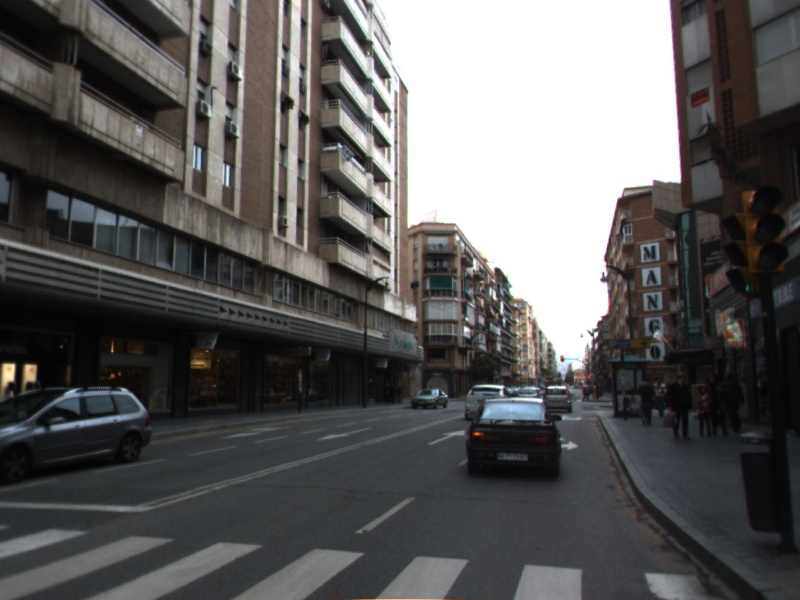STRAIGHT: (425, 428, 466, 447)
STRAIGHT_RIGHT: (560, 413, 584, 422)
